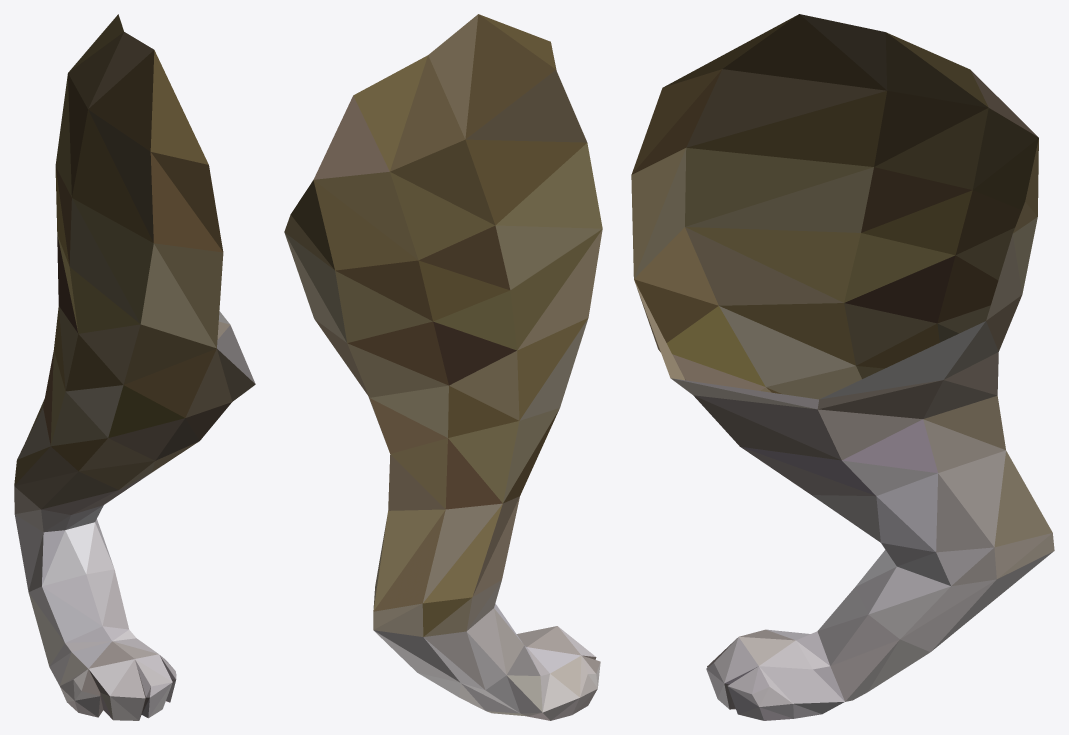
Rendered from PataTrasIzq.obj.
3 renders of one model, left to right at view 1: azimuth 30°, elevation 25°; view 2: azimuth 150°, elevation 25°; view 3: azimuth 270°, elevation 25°, orthographic. The views are drawn at different scales.
Visible parts, largest first — view 1: PataTrasIzq1:polySurface9 group3; view 2: PataTrasIzq1:polySurface9 group3; view 3: PataTrasIzq1:polySurface9 group3.
Part boxes in pixels (left/top/right/bottom): PataTrasIzq1:polySurface9 group3: left=14, top=14, right=255, bottom=720; PataTrasIzq1:polySurface9 group3: left=284, top=14, right=602, bottom=720; PataTrasIzq1:polySurface9 group3: left=631, top=14, right=1054, bottom=720.
Size of the model in its own units: 0.1752 by 0.5851 by 0.3162.
Materials: 1 (1 with a texture image).
